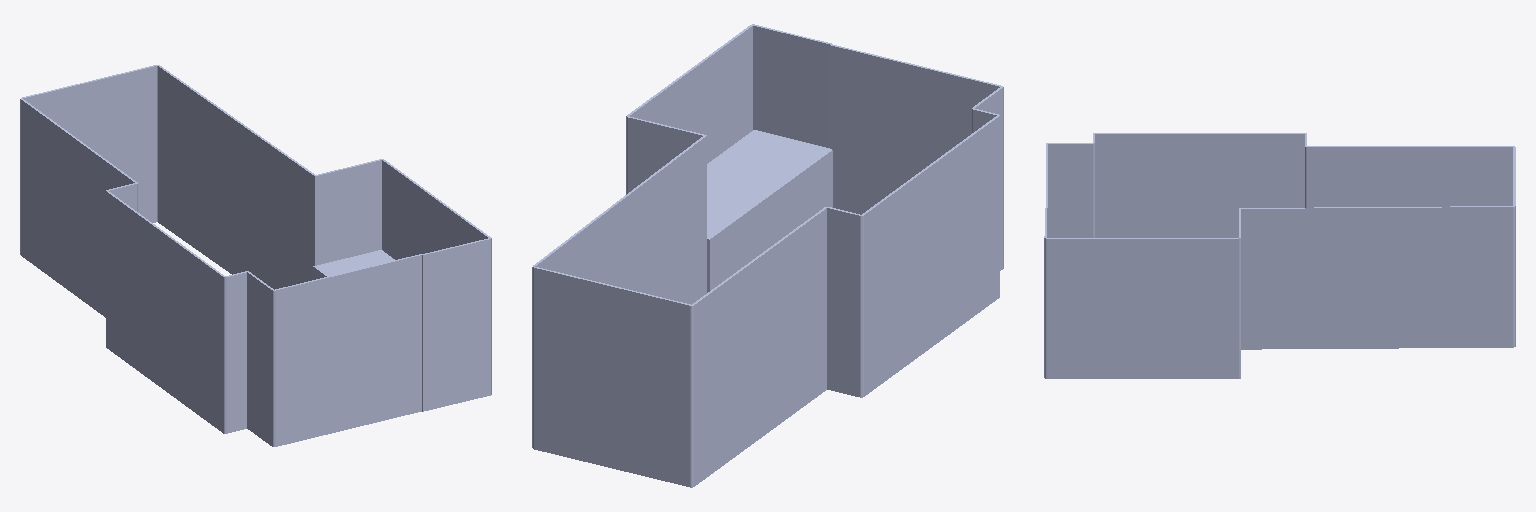
robot.urdf — suidao_wall:
<?xml version="1.0" encoding="utf-8"?>
<!-- This URDF was automatically created by SolidWorks to URDF Exporter! Originally created by Stephen Brawner (brawner@gmail.com) 
     Commit Version: 1.6.0-4-g7f85cfe  Build Version: 1.6.7995.38578
     For more information, please see http://wiki.ros.org/sw_urdf_exporter -->
<robot
  name="suidao_wall">
  <link
    name="base_link">
    <inertial>
      <origin
        xyz="2.94321867593233 -5.85204222672058 8.5886554671535"
        rpy="0 0 0" />
      <mass
        value="56543.9059879773" />
      <inertia
        ixx="2982575.30286642"
        ixy="386982.919454288"
        ixz="79146.4445244223"
        iyy="1168749.96026445"
        iyz="-96906.340122178"
        izz="3679361.54927897" />
    </inertial>
    <visual>
      <origin
        xyz="0 0 0"
        rpy="0 0 0" />
      <geometry>
        <mesh
          filename="package://emnv_scene/urdf_models/suidao_wall/meshes/suidao_wall.STL" />
      </geometry>
      <material
        name="">
        <color
          rgba="0.792156862745098 0.819607843137255 0.933333333333333 1" />
      </material>
    </visual>
    <collision>
      <origin
        xyz="0 0 0"
        rpy="0 0 0" />
      <geometry>
        <mesh
          filename="package://emnv_scene/urdf_models/suidao_wall/meshes/suidao_wall.STL" />
      </geometry>
    </collision>
  </link>
</robot>

--- What the picture shows (computed from the rendered views, not written in the file) ---
Views: 3 orthographic renders of the robot side by side, from view 1: azimuth 30°, elevation 25°; view 2: azimuth 150°, elevation 25°; view 3: azimuth 270°, elevation 25°.
Robot: suidao_wall — 1 links, 0 joints (none); root link base_link; default pose: all joints at 0.
Links seen in each view (by area): view 1: base_link; view 2: base_link; view 3: base_link.
Link boxes in pixels (bbox=[...]): base_link: bbox=[20, 65, 491, 446]; base_link: bbox=[532, 24, 1003, 487]; base_link: bbox=[1044, 133, 1515, 378].
Bounding box of the posed robot: 11.29 × 21.24 × 7 m (x, y, z).
Meshes: 1 distinct files referenced, 1 mesh visuals loaded (1 binary STL).
